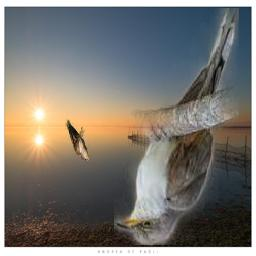Cuckoo: (115, 9, 240, 246), (65, 119, 89, 161)
